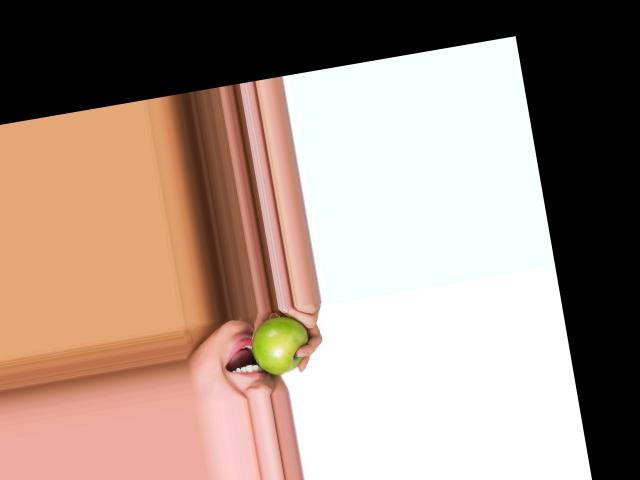apple: (245, 312, 316, 379)
